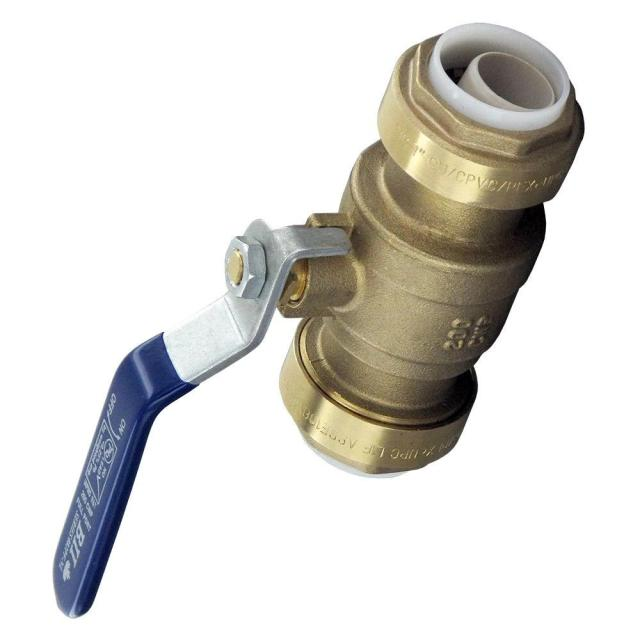opened_valve: (50, 21, 588, 619)
